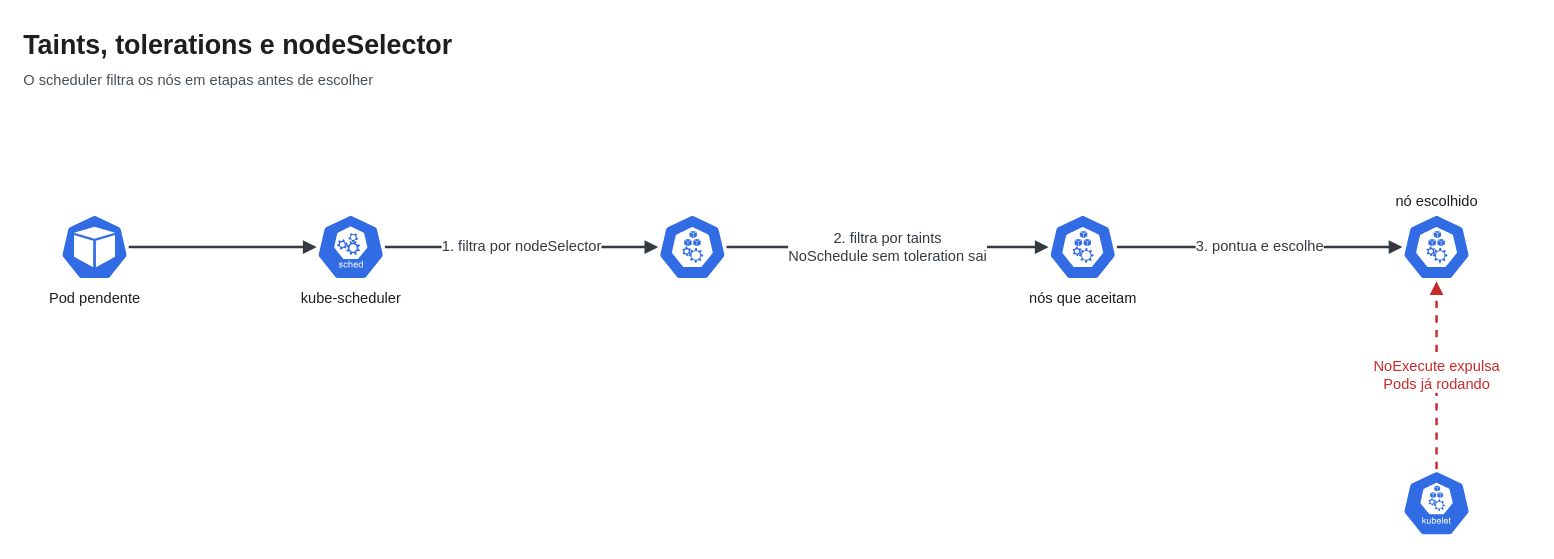
The diagram is 1554 pixels wide and 559 high, and some of its shapes have lost their labels. The box of each missing label's shape, as (x1, y1, x2, y2) in pixels:
kubelet / node controller: (1401, 468, 1471, 537)
nós com os labels: (657, 212, 727, 281)
